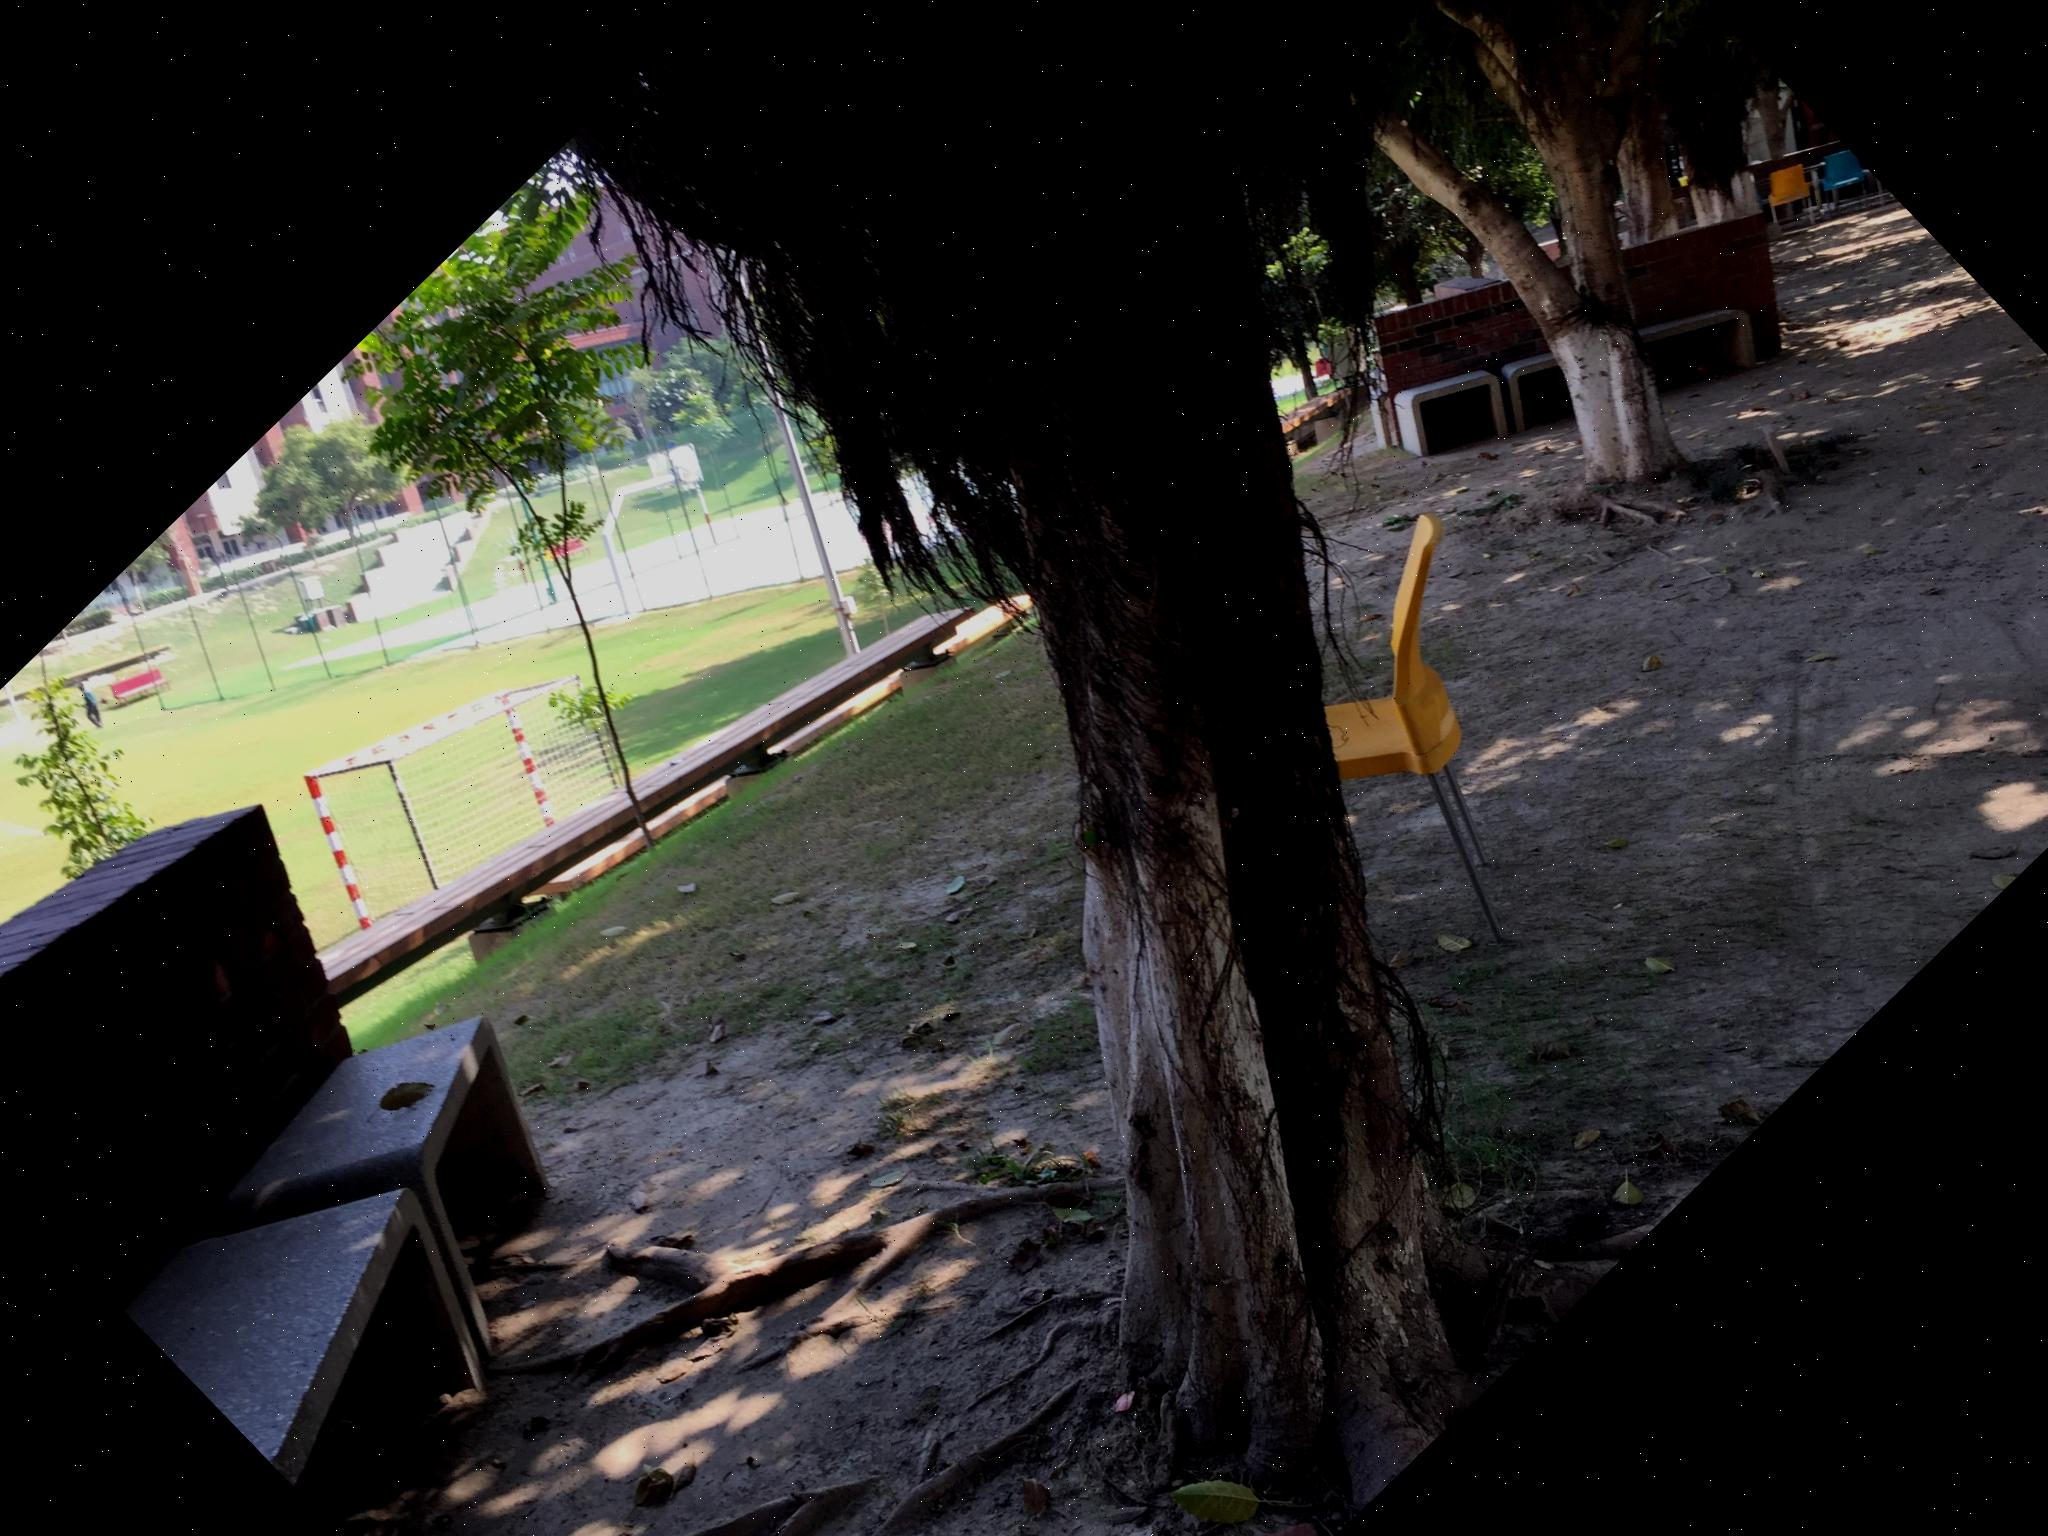chair: (1240, 503, 1684, 952)
